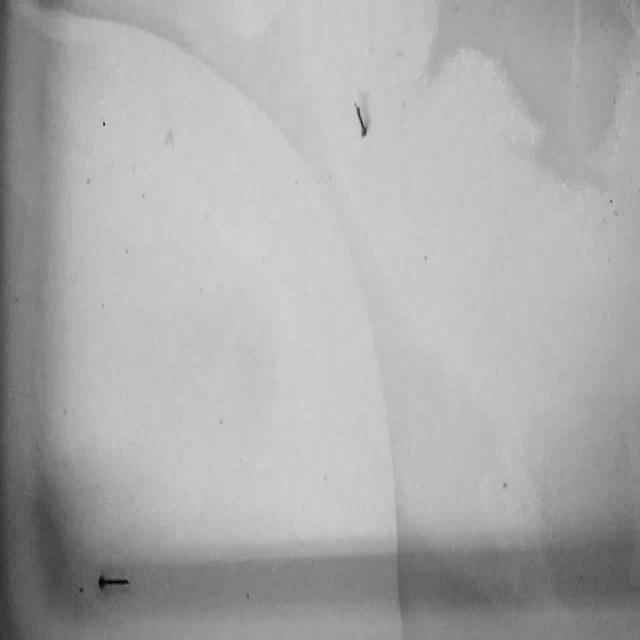larvas: (353, 99, 367, 137), (98, 574, 127, 590)
